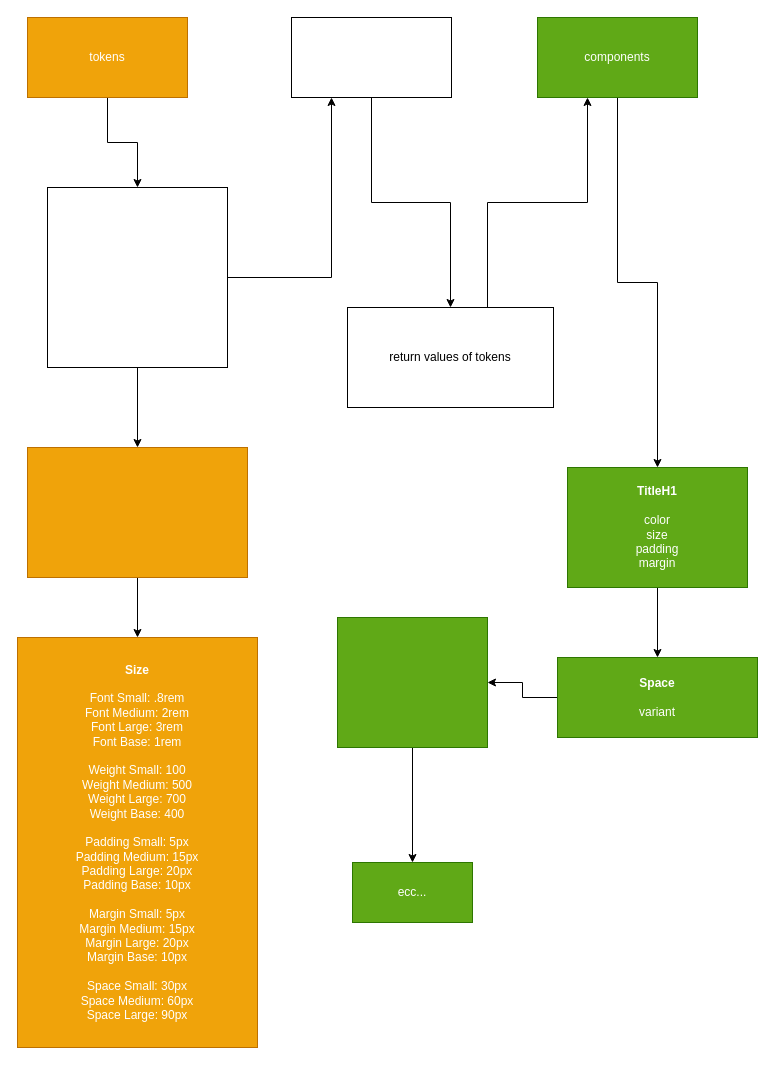
Image size: 775x1065. Some labels were removed from this diagram. Here are the shapes that lost their labels. From the top down, the centre of each, then its label:
[371,57]: theme
[137,277]: Font Size Margin Padding Colors Fonts
[137,512]: Color Black: #000000 White: #FFFFFF Blue: #1b6ffe
[412,682]: Text color size padding margin
